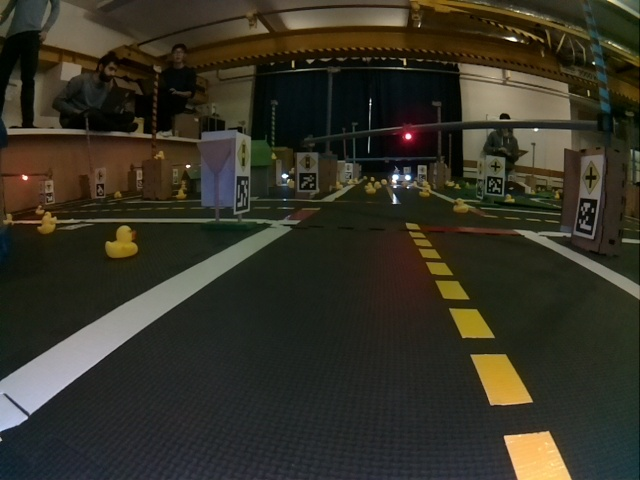Duckie: (105, 227, 139, 258), (40, 218, 56, 234), (453, 198, 468, 212), (5, 213, 14, 225), (421, 187, 430, 196), (506, 194, 514, 203), (36, 205, 44, 214), (371, 184, 376, 191)
Intersection sign: (581, 158, 600, 192), (488, 156, 504, 173)
QR code: (575, 196, 594, 236), (236, 175, 247, 213), (486, 175, 503, 194), (299, 174, 317, 191)
Signal sign: (236, 139, 249, 170), (297, 154, 315, 170)
Traffic light: (402, 122, 412, 139)
